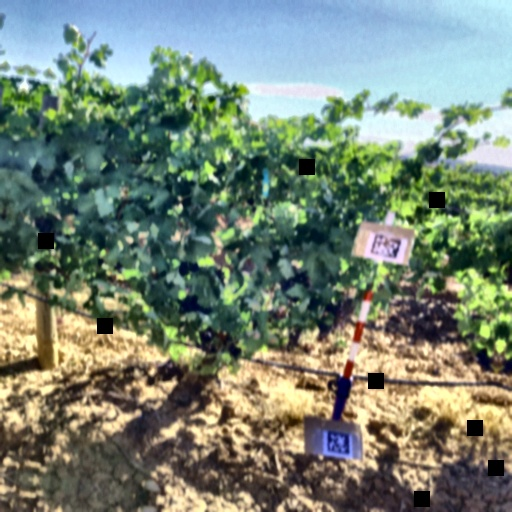QR: (369, 233, 402, 259), (324, 431, 352, 455)
